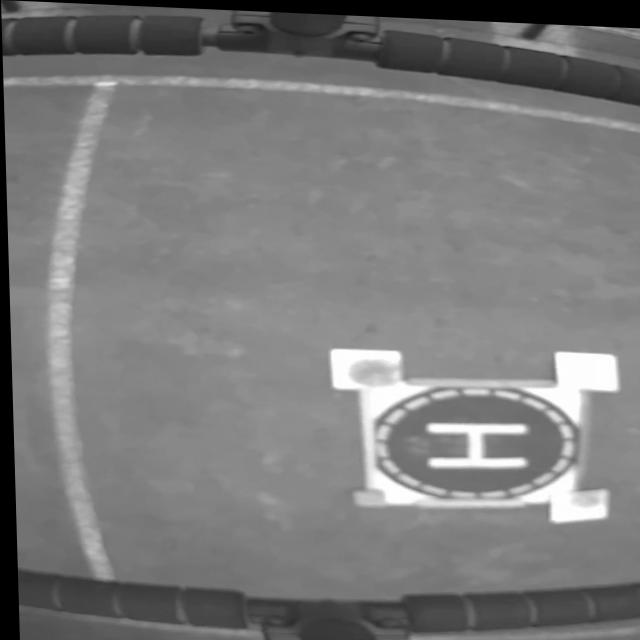Helipad: (421, 418, 525, 465)
